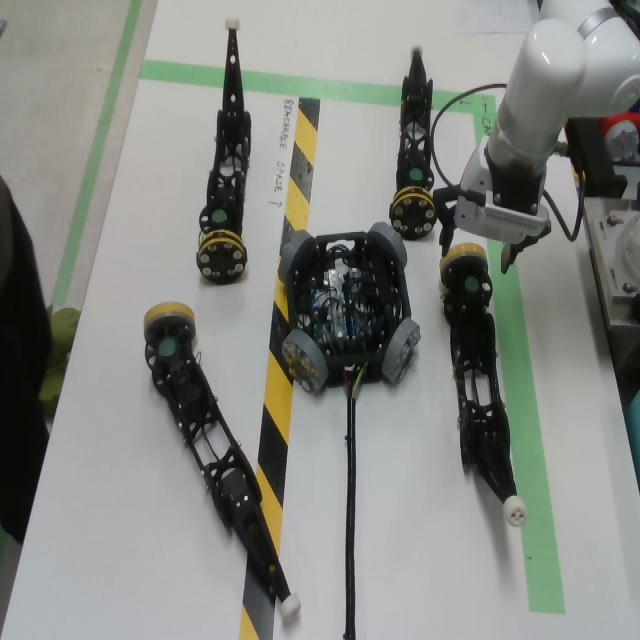body: (288, 231, 411, 385)
body_connector: (282, 329, 329, 395), (382, 319, 422, 383), (278, 229, 315, 285), (368, 221, 407, 267)
gripper: (433, 136, 552, 275)
leg: (144, 301, 301, 629), (439, 243, 527, 528), (196, 19, 251, 285), (388, 41, 437, 241)
leg_connector: (196, 229, 247, 284), (389, 187, 437, 240), (439, 243, 489, 287), (144, 301, 196, 340)
leg_marker: (158, 340, 175, 355), (464, 276, 479, 292), (211, 209, 227, 223), (410, 168, 423, 180)
